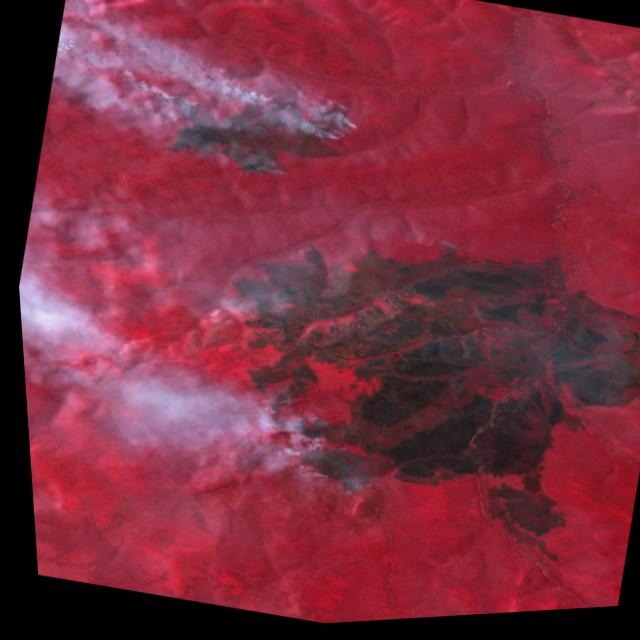fire: (232, 386, 359, 495), (220, 79, 356, 174), (153, 80, 216, 133)
